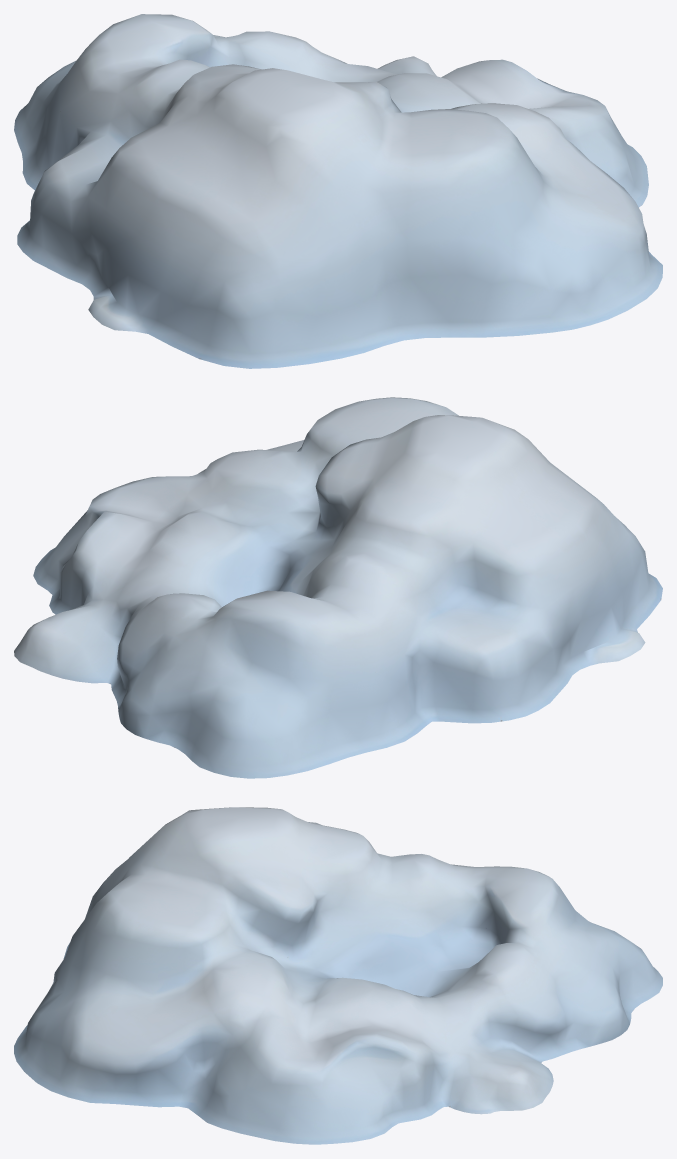
Rendered from event_drift_tripo.glb.
The picture shows the model from 3 angles, top to bottom: view 1: azimuth 30°, elevation 25°; view 2: azimuth 150°, elevation 25°; view 3: azimuth 270°, elevation 25°; orthographic projection. The views are drawn at different scales.
Visible parts, largest first — view 1: tripo_node_3132d745-b0cb-429b-9999-58adb10dd99d; view 2: tripo_node_3132d745-b0cb-429b-9999-58adb10dd99d; view 3: tripo_node_3132d745-b0cb-429b-9999-58adb10dd99d.
Boxes of the visible parts, x1,y1,x2,y2 form: tripo_node_3132d745-b0cb-429b-9999-58adb10dd99d: [14, 14, 662, 368]; tripo_node_3132d745-b0cb-429b-9999-58adb10dd99d: [14, 397, 662, 778]; tripo_node_3132d745-b0cb-429b-9999-58adb10dd99d: [14, 807, 662, 1144].
Size of the model in its own units: 0.9004 by 0.2754 by 0.998.
1 material, 1 textured.
